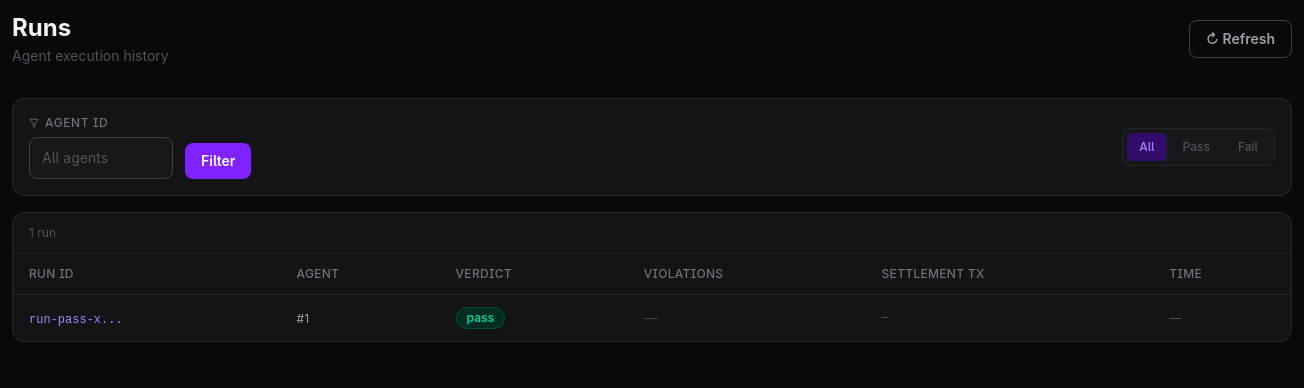
Test: Runs — empty filter result › shows empty message when filter matches nothing
Expected: the text "1 run" is shown, [29,225,56,241]
Click the button "Fail": point(1248, 147) [1226,133,1270,161]
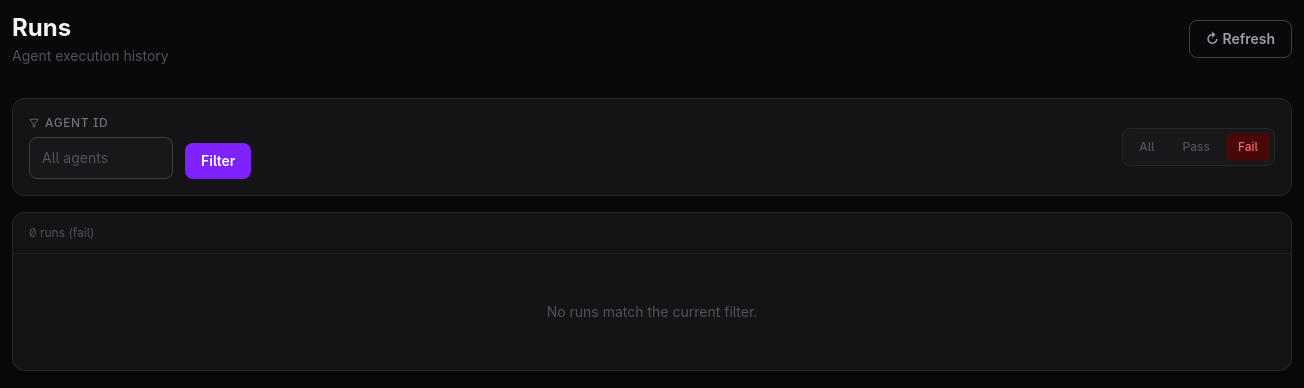
Now the text "No runs match the current filter." is shown, box [547,303,757,320]
